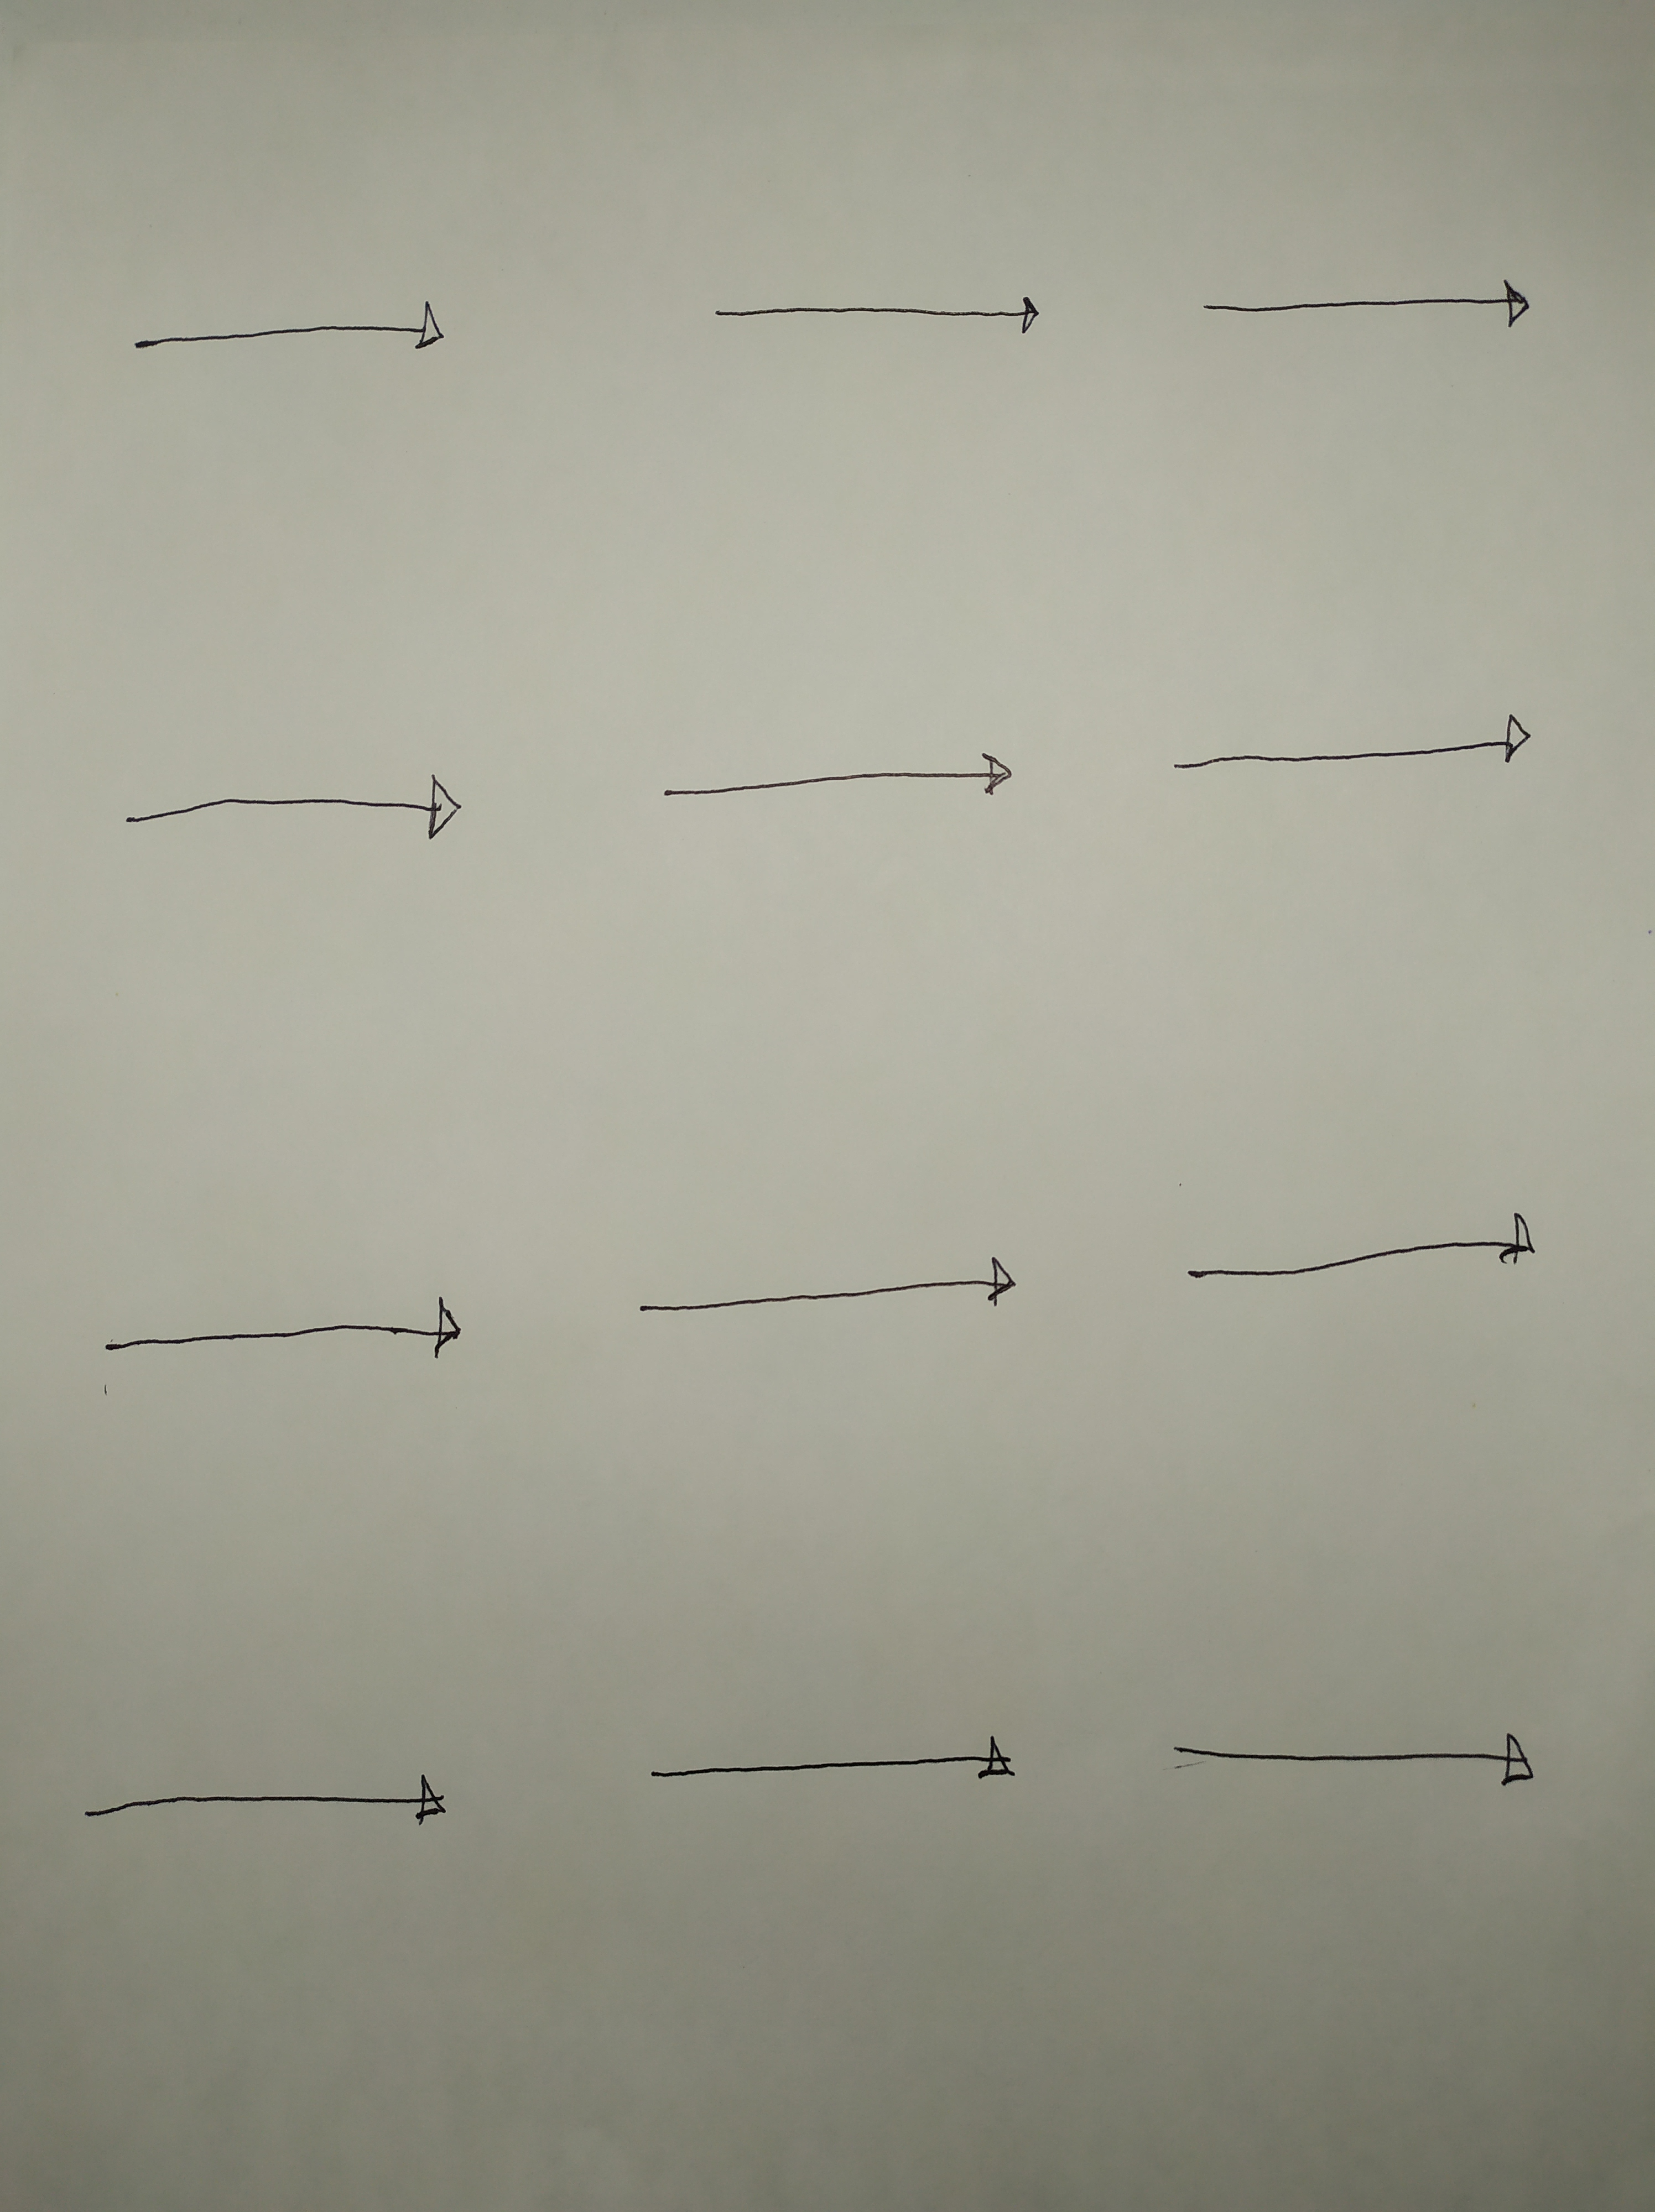arrow_line_right: (103, 742, 487, 884), (614, 740, 1057, 857), (103, 262, 483, 391), (607, 1237, 1036, 1345), (1135, 1712, 1554, 1818), (70, 1752, 462, 1864), (605, 1717, 1045, 1818), (671, 264, 1093, 367), (61, 1281, 499, 1378), (1135, 699, 1537, 801), (1158, 1202, 1575, 1289), (1175, 264, 1568, 356)
